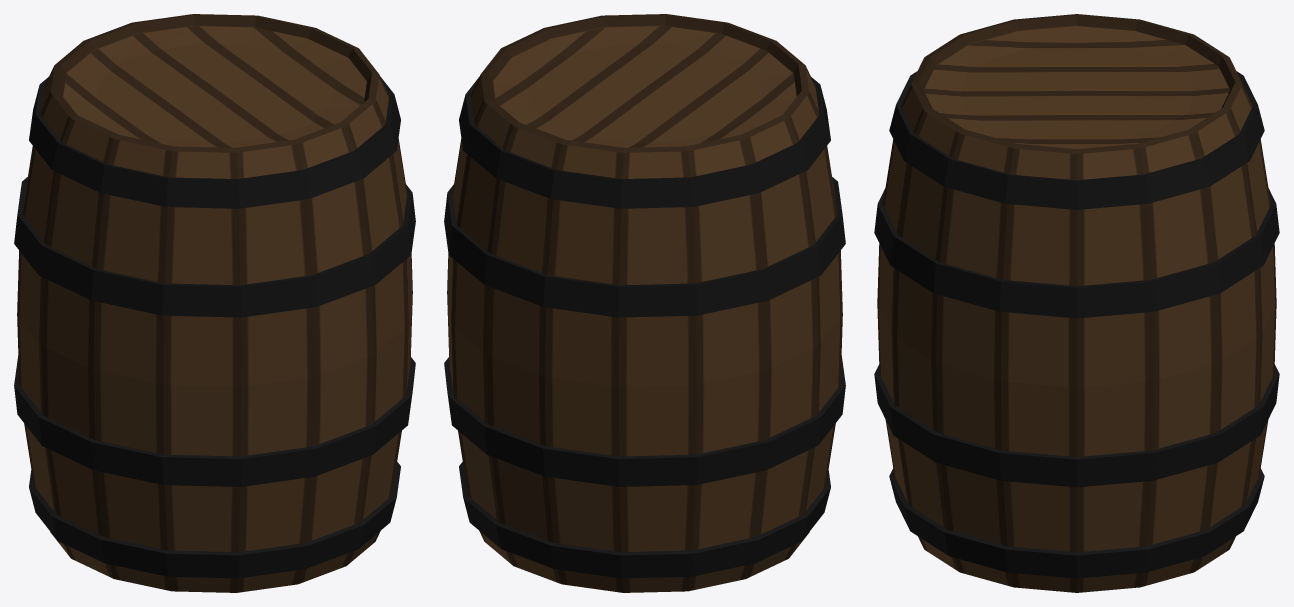
Rendered from barrelmonster_anim.fbx.
The picture shows the model from 3 angles, left to right: view 1: azimuth 30°, elevation 25°; view 2: azimuth 150°, elevation 25°; view 3: azimuth 270°, elevation 25°; orthographic projection.
Parts seen in each view (by area): view 1: OBJ_BarrelMonster; view 2: OBJ_BarrelMonster; view 3: OBJ_BarrelMonster.
Boxes of the visible parts, x1=… form: OBJ_BarrelMonster: x1=14, y1=14, x2=415, y2=592; OBJ_BarrelMonster: x1=444, y1=14, x2=845, y2=592; OBJ_BarrelMonster: x1=874, y1=14, x2=1279, y2=592.
Size of the model in its own units: 4.18 by 5.07 by 4.18.
